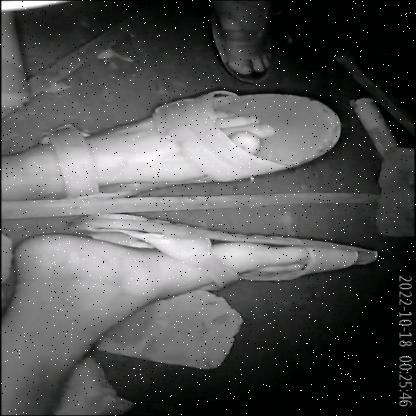leg: (0, 206, 380, 416), (0, 84, 358, 210), (198, 0, 287, 86)
